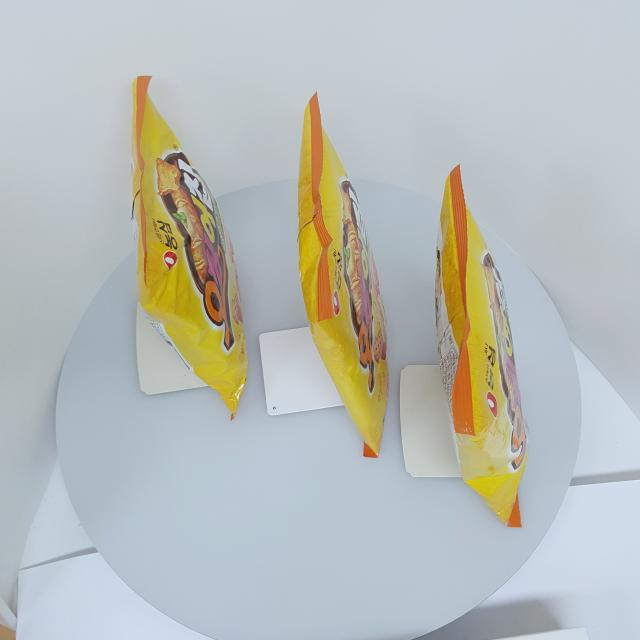-83G: (132, 76, 249, 422), (436, 165, 530, 529), (298, 92, 391, 459)
